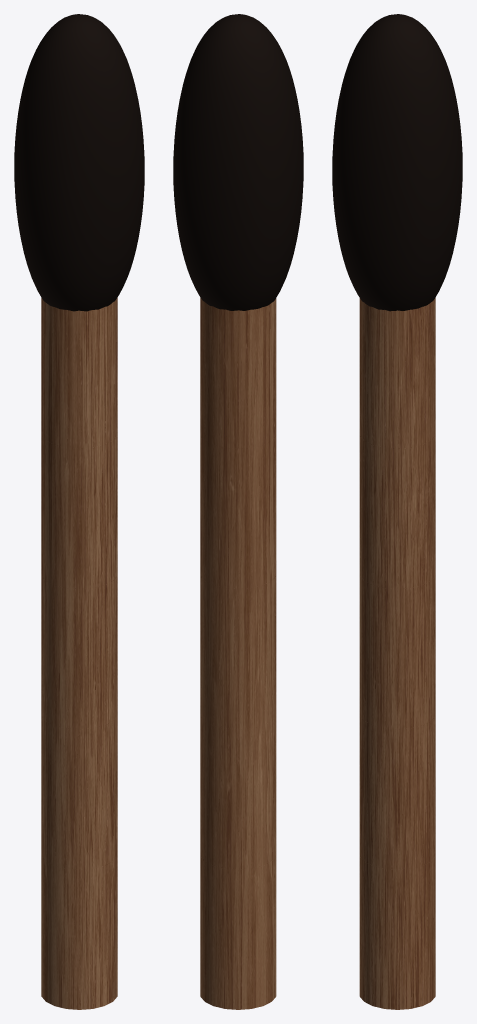
Rendered from Torch_Texturized.FBX.
The picture shows the model from 3 angles, left to right: view 1: azimuth 30°, elevation 25°; view 2: azimuth 150°, elevation 25°; view 3: azimuth 330°, elevation 25°; orthographic projection.
Parts seen in each view (by area): view 1: Cylinder001, Box001; view 2: Cylinder001, Box001; view 3: Cylinder001, Box001.
Boxes of the visible parts, left/top/right/bottom form: Cylinder001: left=41, top=297, right=117, bottom=1009; Box001: left=14, top=14, right=144, bottom=311; Cylinder001: left=200, top=297, right=276, bottom=1009; Box001: left=173, top=14, right=303, bottom=310; Cylinder001: left=359, top=298, right=435, bottom=1009; Box001: left=332, top=14, right=462, bottom=311.
Bounding box in the file's own units: 0.6619 × 5.57 × 0.6619.
Materials: 2 (1 with a texture image).
